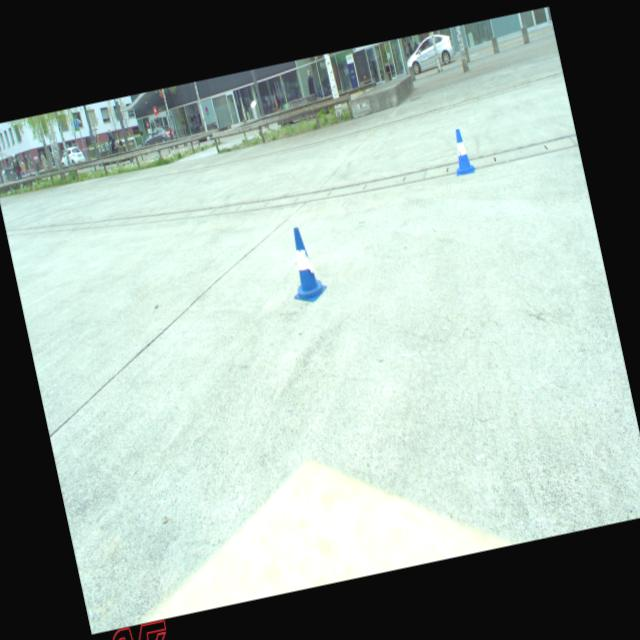blue_cone: (280, 223, 330, 305), (446, 126, 477, 176)
